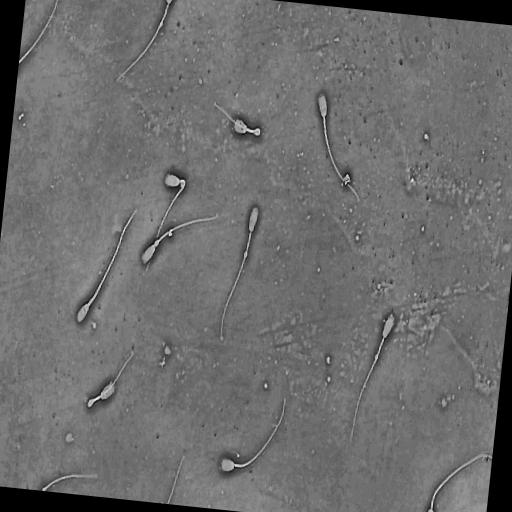dirt-particles: (342, 172, 351, 186)
distal-droplet: (158, 21, 163, 29), (244, 251, 248, 259), (374, 353, 378, 361)
folded-tail: (146, 178, 185, 272), (87, 352, 134, 409), (216, 105, 252, 133), (251, 128, 261, 136), (246, 129, 251, 131)
loose-tail: (18, 0, 61, 69), (165, 453, 186, 504)
normal: (75, 204, 140, 324), (349, 311, 396, 446), (220, 205, 261, 344), (218, 395, 287, 475), (114, 0, 175, 88), (316, 89, 362, 204), (144, 171, 187, 275), (140, 213, 219, 266), (426, 452, 492, 512), (87, 348, 135, 410), (210, 98, 264, 140)
proximal-droplet: (154, 240, 160, 248)
